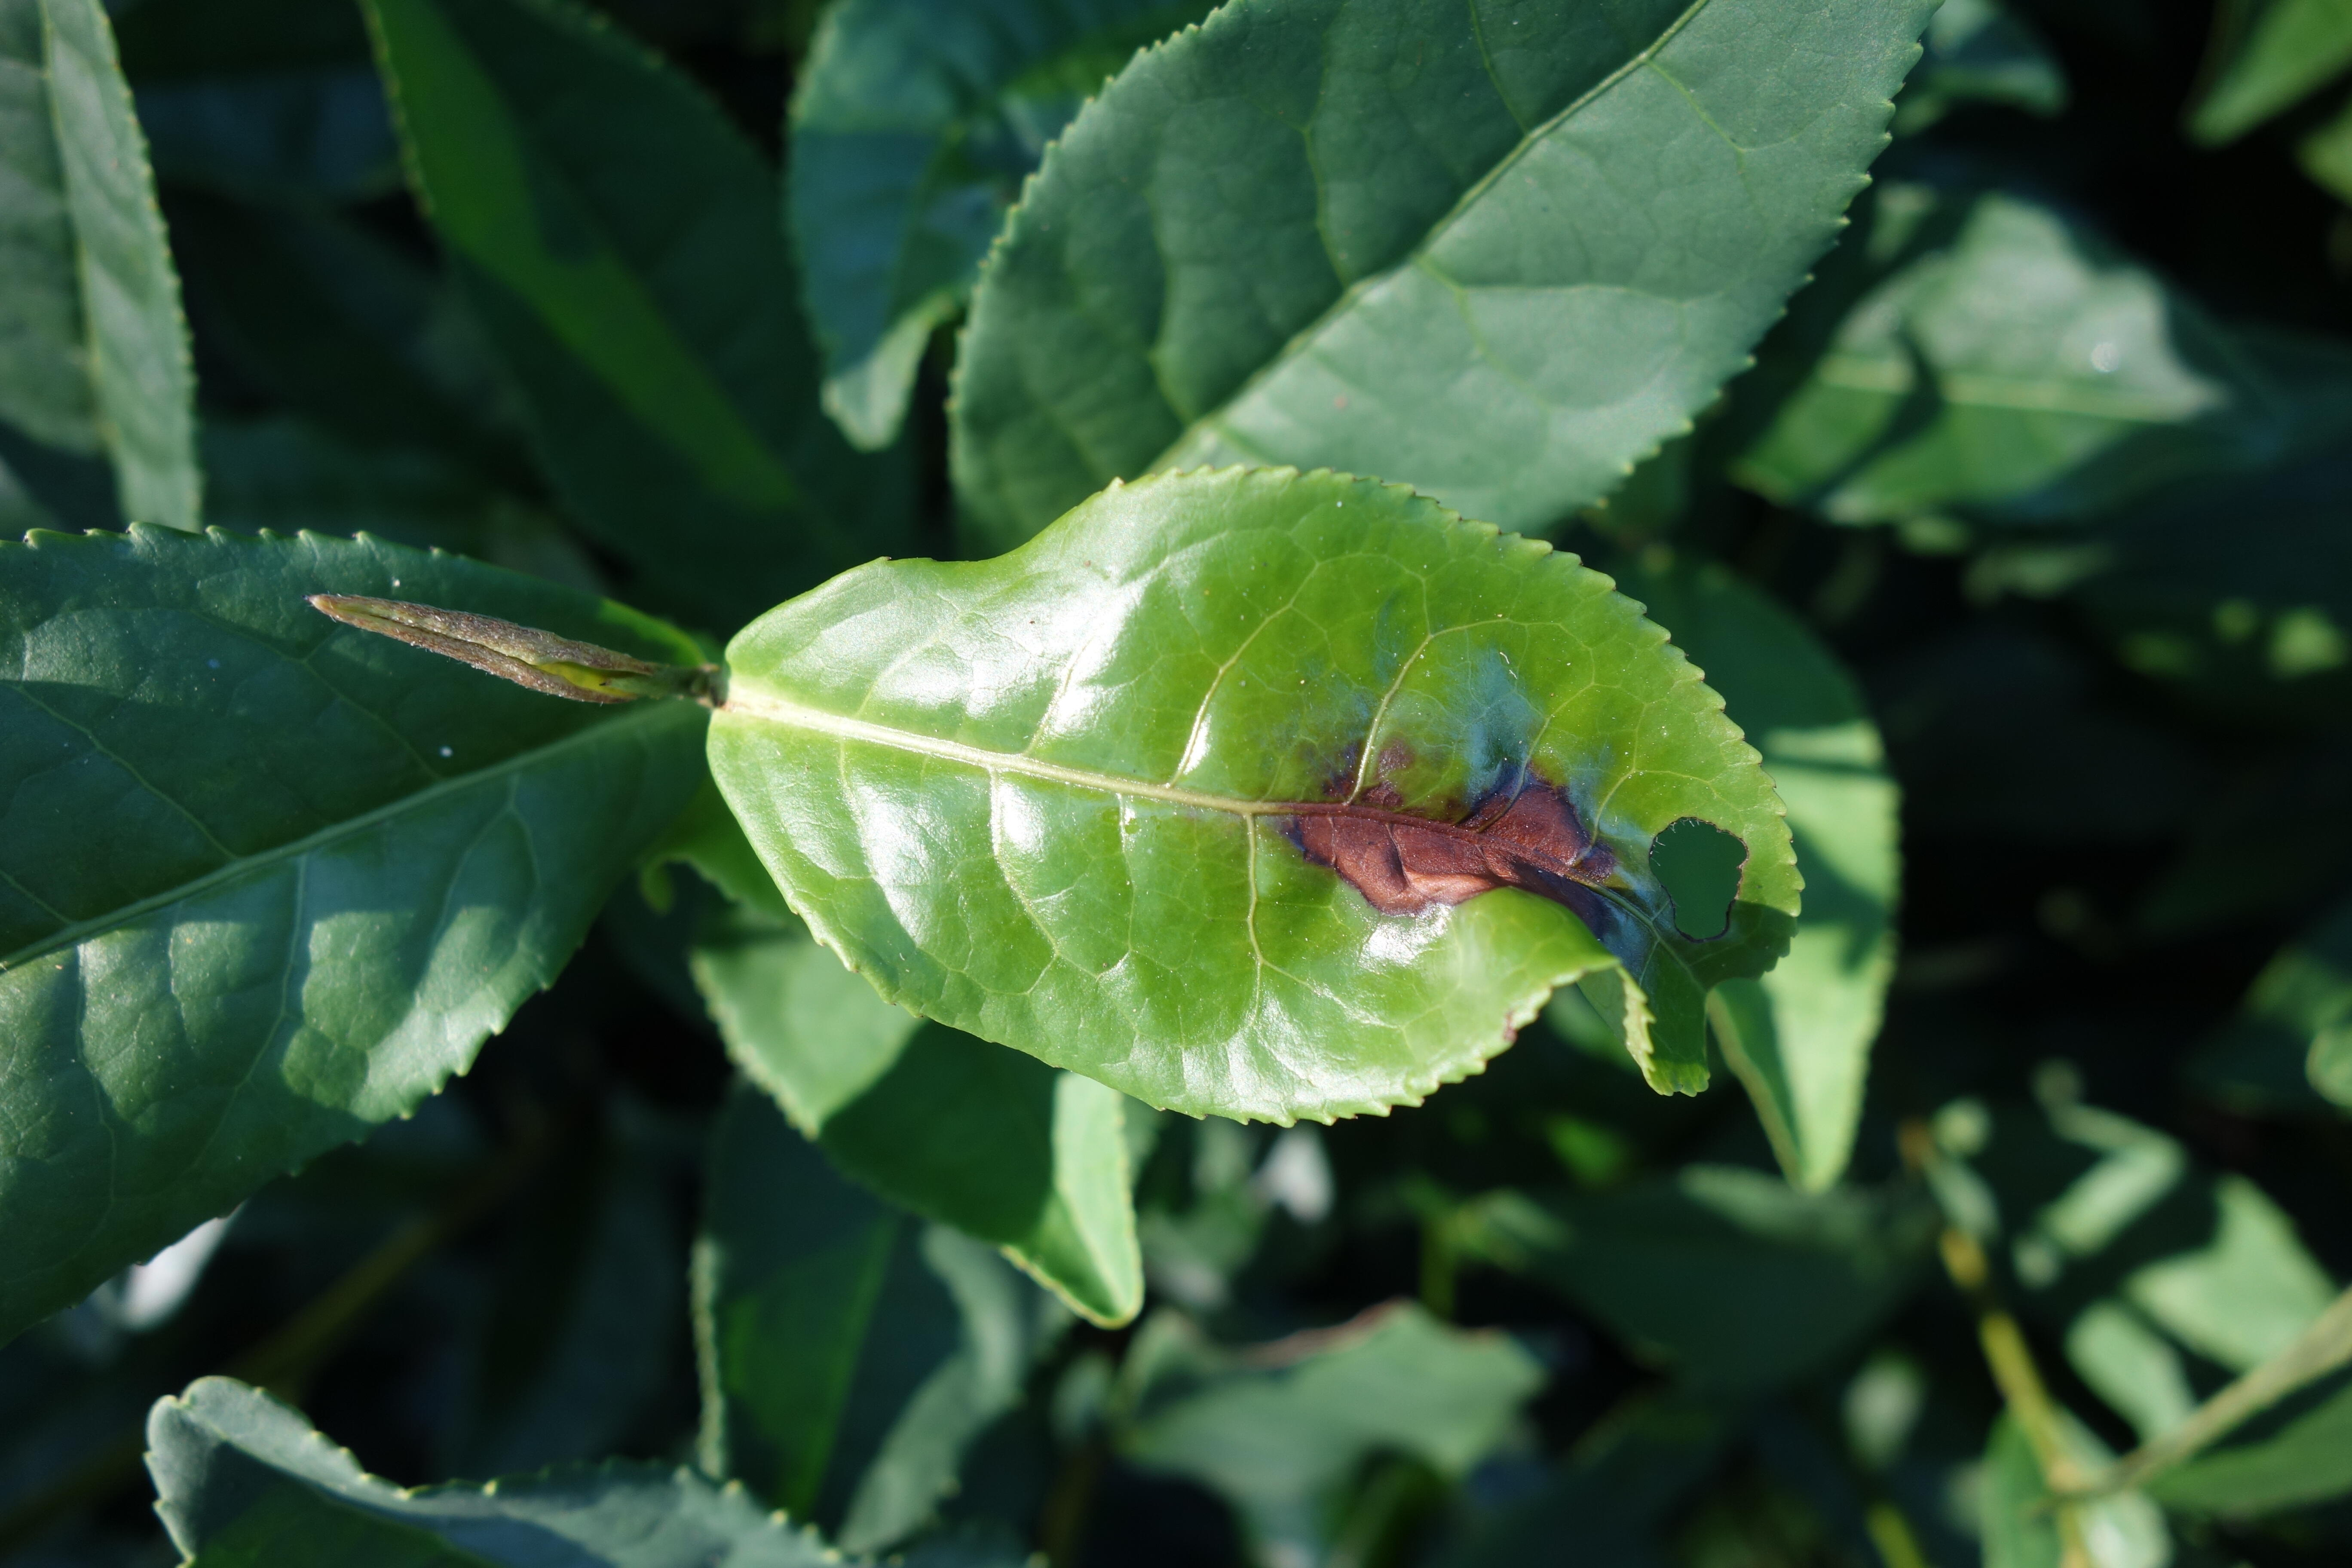tanju_high: (709, 462, 1809, 1125)
